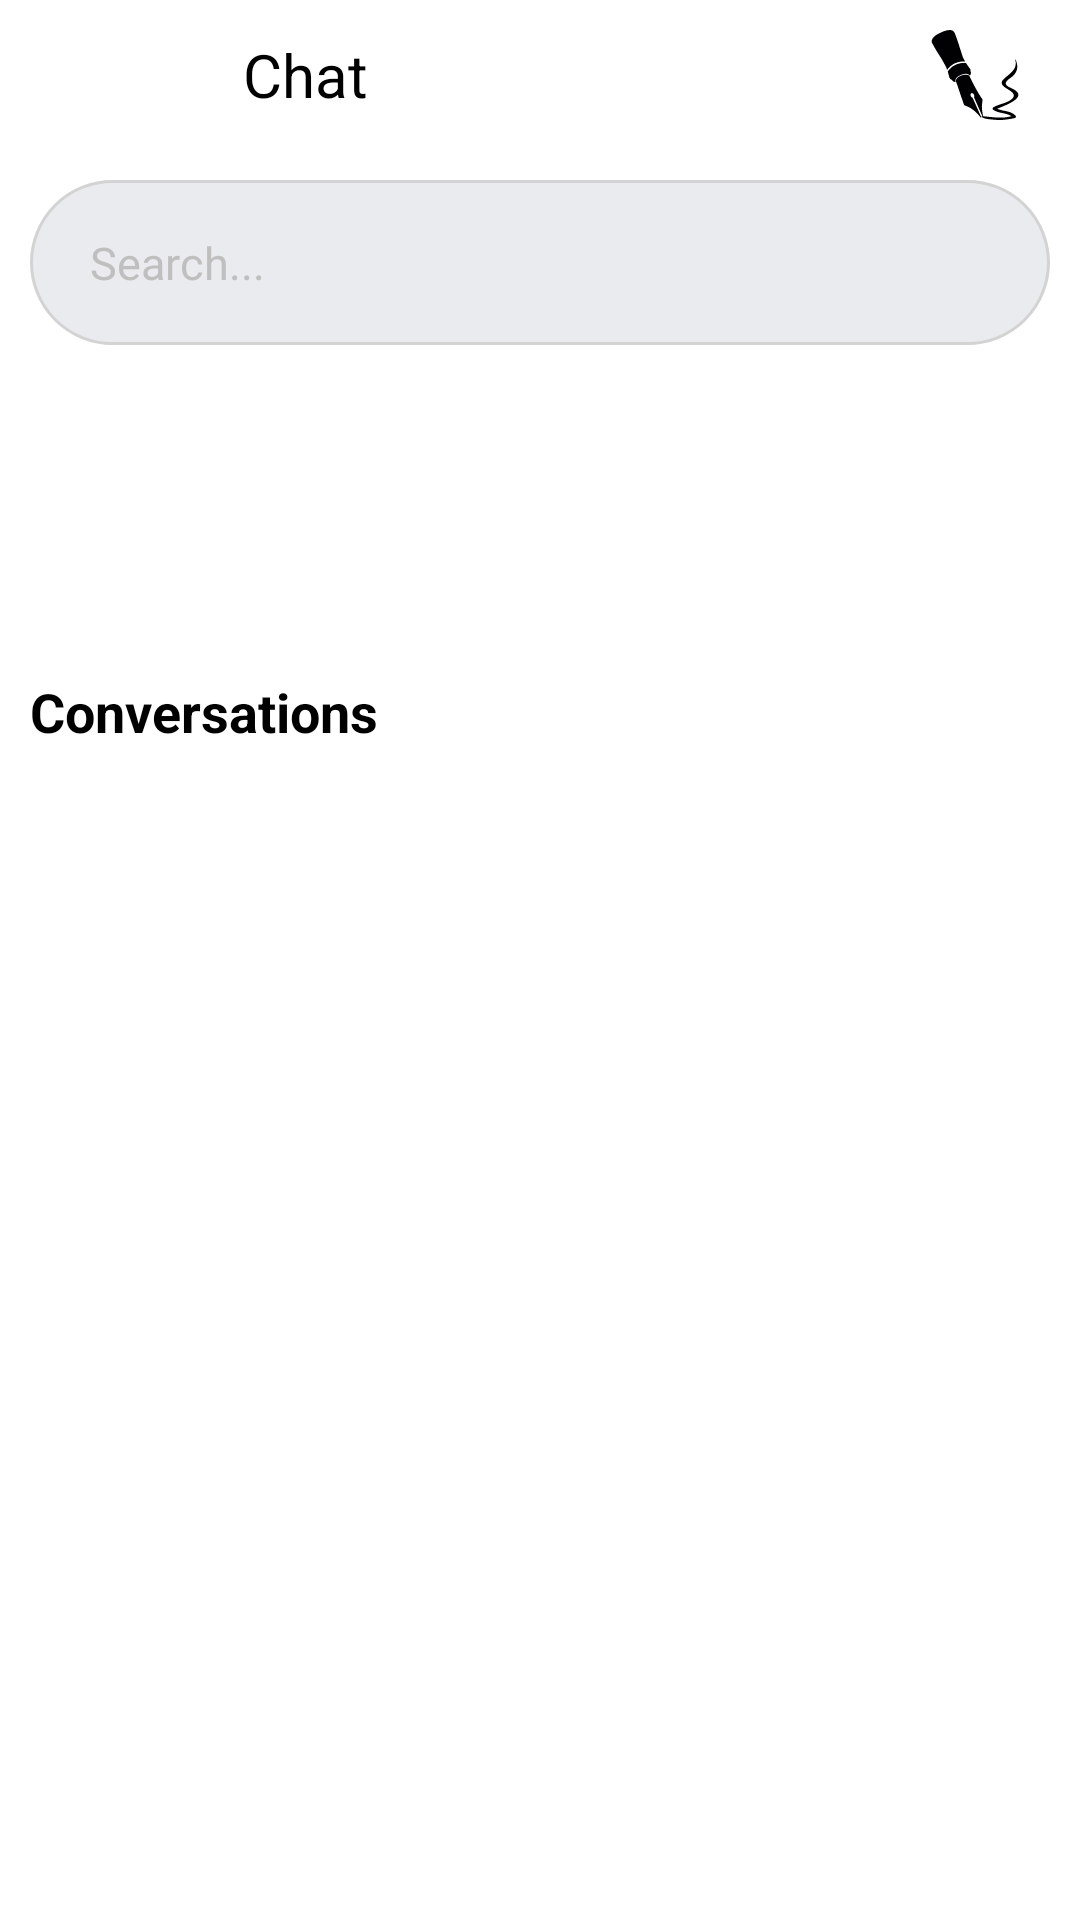

Icon click points for this 1080*1920 phone screenshot, format (x=x, y=y):
fountain pen close up: (x=975, y=75)
